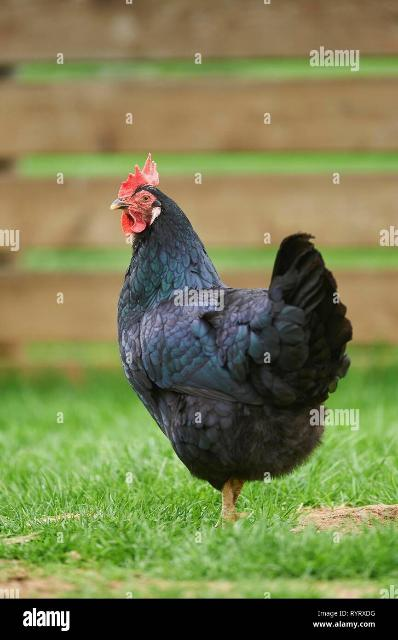Chicken: (109, 149, 353, 519)
